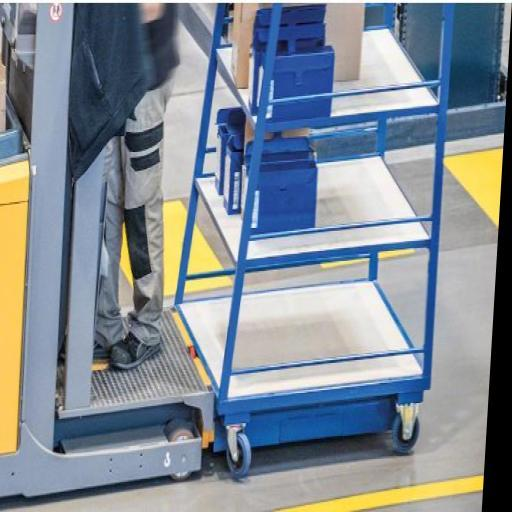safety_boots: (113, 336, 155, 377)
